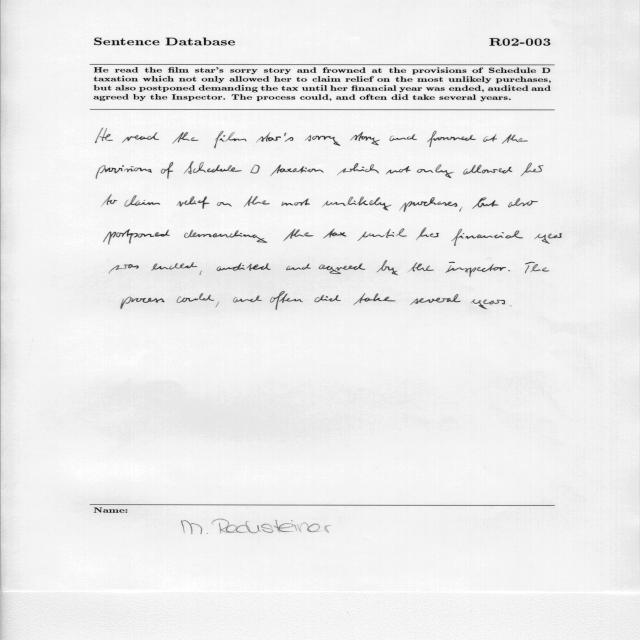word: (451, 229, 523, 246), (184, 230, 268, 243), (103, 229, 170, 245), (323, 197, 391, 211), (446, 262, 507, 277), (400, 197, 458, 212), (427, 131, 476, 147), (96, 165, 152, 179), (184, 161, 242, 174), (357, 228, 407, 241), (270, 291, 303, 310), (270, 165, 324, 176), (214, 131, 247, 148), (410, 294, 461, 305), (121, 297, 164, 309), (353, 293, 396, 305), (319, 263, 365, 274), (337, 163, 379, 175), (463, 165, 513, 175), (417, 165, 454, 178), (217, 263, 271, 271), (177, 196, 210, 209), (125, 195, 160, 207), (152, 262, 198, 271), (122, 132, 159, 143), (257, 132, 294, 143), (350, 132, 380, 145), (305, 135, 340, 146), (177, 293, 214, 303), (284, 229, 314, 241), (471, 300, 505, 310), (377, 261, 398, 276), (173, 132, 199, 144), (472, 197, 498, 209), (535, 233, 563, 244), (521, 163, 544, 176), (244, 196, 270, 207), (416, 228, 439, 240), (95, 128, 113, 143), (508, 198, 538, 207), (109, 264, 139, 273), (525, 262, 549, 273), (502, 134, 528, 144), (408, 262, 434, 272), (323, 229, 347, 239), (281, 198, 310, 206), (161, 162, 173, 179), (233, 296, 262, 303), (386, 166, 411, 174), (389, 134, 417, 141), (314, 295, 341, 302), (286, 264, 311, 271), (102, 195, 117, 206), (483, 134, 497, 142), (250, 165, 260, 174), (217, 202, 232, 207), (215, 302, 219, 308), (459, 207, 462, 212), (199, 271, 202, 275), (508, 270, 510, 271), (510, 306, 512, 306)
